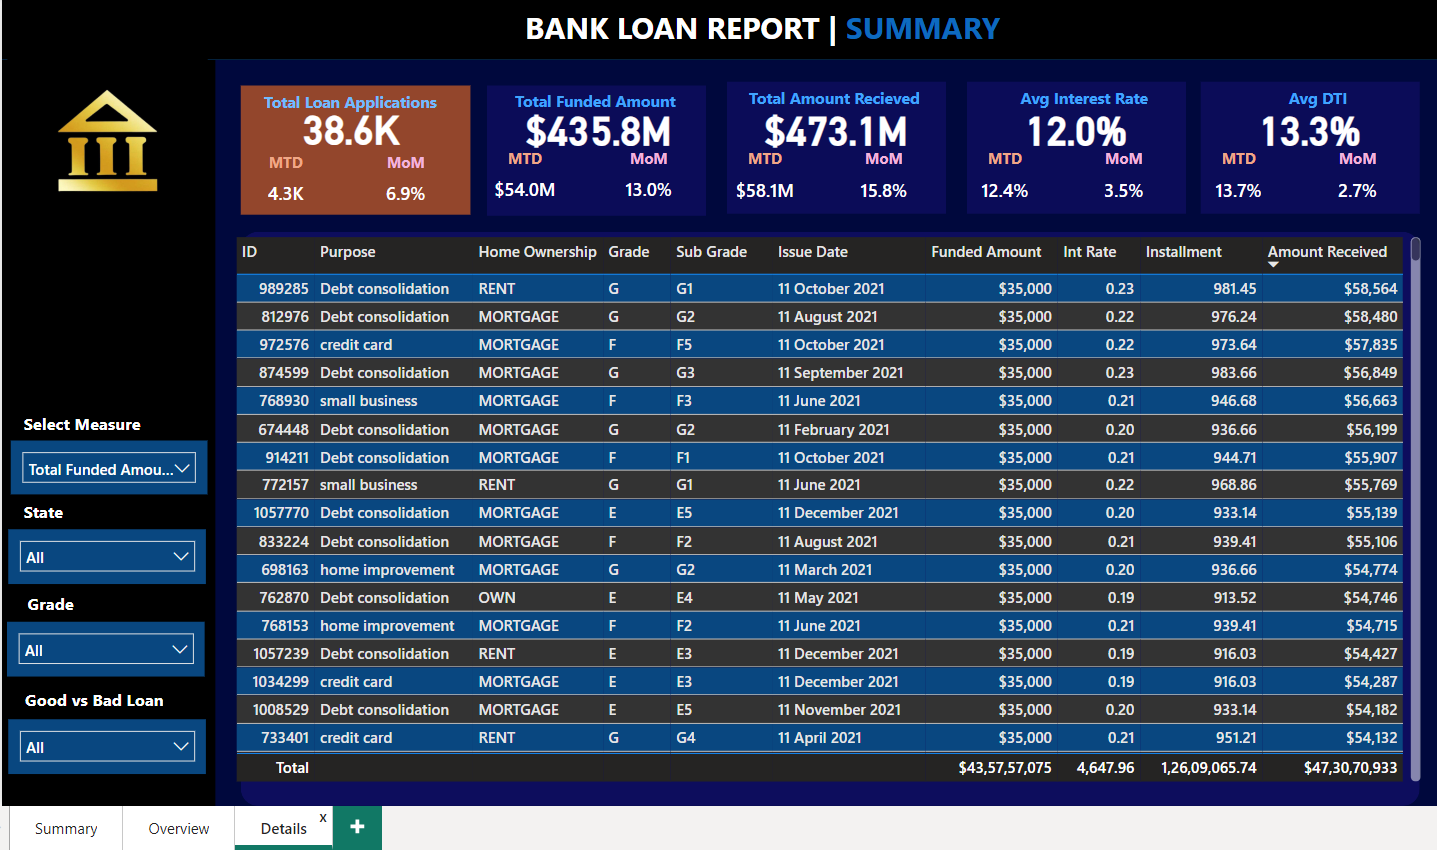

What the dashboard file says about the page in this screenshot:
{"tool":"powerbi","page":{"name":"Details","canvas":[1280,720],"ordinal":2},"visuals":[{"type":"shape","box":[0,0,190,720],"z":0},{"type":"shape","box":[0,0,1278.6,55],"z":1000},{"type":"textbox","box":[461.2,3.8,477.5,47.5],"z":2000},{"type":"group","id":"g1","title":"Group 1","box":[190,55,241.2,143.8],"z":3000},{"type":"shape","box":[645,75,195,117.5],"z":3000,"group":"g3"},{"type":"shape","box":[858.7,75,195,117.5],"z":3000,"group":"g4"},{"type":"shape","box":[1067.5,75,195,117.5],"z":3000,"group":"g5"},{"type":"shape","box":[431.5,78.7,195,116.3],"z":3000,"group":"g2"},{"type":"shape","box":[212.3,78.9,204.5,115.1],"z":3000,"group":"g1"},{"type":"card","fields":{"Values":["financial_loan.Total Loan Application"]},"box":[190,55,241.3,120],"z":4000,"group":"g1"},{"type":"group","id":"g2","title":"Group 1","box":[416.2,75,230,120],"z":4000},{"type":"card","fields":{"Values":["financial_loan.Total Funded Amount"]},"box":[416.2,75,230,81.6],"z":4000,"group":"g2"},{"type":"card","fields":{"Values":["financial_loan.Total Amount Received"]},"box":[627.5,75,230,82.5],"z":4000,"group":"g3"},{"type":"card","fields":{"Values":["financial_loan.Avg Interest Rate"]},"box":[841.2,75,230,82.5],"z":4000,"group":"g4"},{"type":"card","fields":{"Values":["financial_loan.Avg DTI"]},"box":[1050,75,230,82.5],"z":4000,"group":"g5"},{"type":"textbox","box":[660,75,180,35],"z":5000,"group":"g3"},{"type":"textbox","box":[873.7,75,180,35],"z":5000,"group":"g4"},{"type":"textbox","box":[1082.5,75,180,35],"z":5000,"group":"g5"},{"type":"textbox","box":[451.4,77.5,180,34.6],"z":5000,"group":"g2"},{"type":"textbox","box":[228,78.9,188.8,34.3],"z":5000,"group":"g1"},{"type":"shape","box":[212.9,208.6,1050,511.4],"z":5000},{"type":"group","id":"g3","title":"Group 1","box":[627.5,75,230,120],"z":6000},{"type":"card","title":"MTD ","fields":{"Values":["financial_loan.MTD Total Amount Recieved"]},"box":[644.6,133.9,70,61.4],"z":6000,"group":"g3"},{"type":"card","title":"MTD ","fields":{"Values":["financial_loan.MTD Avg Int Rate"]},"box":[858.3,133.9,70,61.4],"z":6000,"group":"g4"},{"type":"card","title":"MTD ","fields":{"Values":["financial_loan.MTD Avg DTI"]},"box":[1067.1,133.9,70,61.4],"z":6000,"group":"g5"},{"type":"card","title":"MTD ","fields":{"Values":["financial_loan.MTD Total Funded Amount"]},"box":[431.2,134.4,70,60.6],"z":6000,"group":"g2"},{"type":"card","title":"MTD ","fields":{"Values":["financial_loan.MTD Loan Applications"]},"box":[215.7,137.9,73.6,60.4],"z":6000,"group":"g1"},{"type":"group","id":"g4","title":"Group 1","box":[841.2,75,230,120],"z":7000},{"type":"card","title":"MoM","fields":{"Values":["financial_loan.MoM Funded Amount"]},"box":[541.2,134.4,70,60.6],"z":7000,"group":"g2"},{"type":"card","title":"MoM","fields":{"Values":["financial_loan.MoM Total Amount Recieved"]},"box":[750.3,134.4,70.2,61.7],"z":7000,"group":"g3"},{"type":"card","title":"MoM","fields":{"Values":["financial_loan.MoM Avg Int Rate"]},"box":[964,134.4,70.2,61.7],"z":7000,"group":"g4"},{"type":"card","title":"MoM","fields":{"Values":["financial_loan.MoM Avg DTI"]},"box":[1172.8,134.4,70.2,61.7],"z":7000,"group":"g5"},{"type":"card","title":"MoM","fields":{"Values":["financial_loan.MoM Loan Application"]},"box":[322.7,137.1,73.6,60.4],"z":7000,"group":"g1"},{"type":"group","id":"g5","title":"Group 1","box":[1050,75,230,120],"z":8000},{"type":"slicer","fields":{"Values":["financial_loan.address_state"]},"box":[5.2,473.6,176.2,48.8],"z":9000},{"type":"textbox","box":[14.4,442.3,131.2,36.2],"z":10000},{"type":"slicer","fields":{"Values":["financial_loan.grade"]},"box":[4.8,555.5,176.2,48.8],"z":11000},{"type":"slicer","fields":{"Values":["financial_loan.Good vs Bad Loan"]},"box":[5.1,641.9,176.2,48.8],"z":12000},{"type":"textbox","box":[17.3,524.2,131.2,36.2],"z":13000},{"type":"textbox","box":[15.7,610,151.4,37.1],"z":14000},{"type":"slicer","fields":{"Values":["Select Measure.Select Measure"]},"box":[7.2,394.5,174.9,48.3],"z":15000},{"type":"textbox","box":[14.5,364.3,131.5,36.2],"z":16000},{"type":"tableEx","fields":{"Values":["financial_loan.id","financial_loan.purpose","financial_loan.home_ownership","financial_loan.grade","financial_loan.sub_grade","financial_loan.issue_date","financial_loan.Total Funded Amount","Sum(financial_loan.int_rate)","Sum(financial_loan.installment)","financial_loan.Total Amount Received"]},"box":[202.9,208.6,1065.7,494.3],"z":17000}]}

Visuals, with their boxes on the page's 1280x720 design canvas (x1, y1, x2, y2). These are canvas units, not pixel positions in the 1437x850 screenshot, which may show the page scaled, cropped or inside an application window:
shape: region(0, 0, 190, 720)
shape: region(0, 0, 1279, 55)
textbox: region(461, 4, 939, 51)
"Group 1" group: region(190, 55, 431, 199)
shape: region(645, 75, 840, 192)
shape: region(859, 75, 1054, 192)
shape: region(1068, 75, 1262, 192)
shape: region(432, 79, 626, 195)
shape: region(212, 79, 417, 194)
card - financial_loan.Total Loan Application: region(190, 55, 431, 175)
"Group 1" group: region(416, 75, 646, 195)
card - financial_loan.Total Funded Amount: region(416, 75, 646, 157)
card - financial_loan.Total Amount Received: region(628, 75, 858, 158)
card - financial_loan.Avg Interest Rate: region(841, 75, 1071, 158)
card - financial_loan.Avg DTI: region(1050, 75, 1280, 158)
textbox: region(660, 75, 840, 110)
textbox: region(874, 75, 1054, 110)
textbox: region(1082, 75, 1262, 110)
textbox: region(451, 78, 631, 112)
textbox: region(228, 79, 417, 113)
shape: region(213, 209, 1263, 720)
"Group 1" group: region(628, 75, 858, 195)
"MTD " card: region(645, 134, 715, 195)
"MTD " card: region(858, 134, 928, 195)
"MTD " card: region(1067, 134, 1137, 195)
"MTD " card: region(431, 134, 501, 195)
"MTD " card: region(216, 138, 289, 198)
"Group 1" group: region(841, 75, 1071, 195)
"MoM" card: region(541, 134, 611, 195)
"MoM" card: region(750, 134, 820, 196)
"MoM" card: region(964, 134, 1034, 196)
"MoM" card: region(1173, 134, 1243, 196)
"MoM" card: region(323, 137, 396, 198)
"Group 1" group: region(1050, 75, 1280, 195)
slicer - financial_loan.address_state: region(5, 474, 181, 522)
textbox: region(14, 442, 146, 478)
slicer - financial_loan.grade: region(5, 556, 181, 604)
slicer - financial_loan.Good vs Bad Loan: region(5, 642, 181, 691)
textbox: region(17, 524, 148, 560)
textbox: region(16, 610, 167, 647)
slicer - Select Measure.Select Measure: region(7, 394, 182, 443)
textbox: region(14, 364, 146, 400)
tableEx - financial_loan.id x financial_loan.purpose: region(203, 209, 1269, 703)
